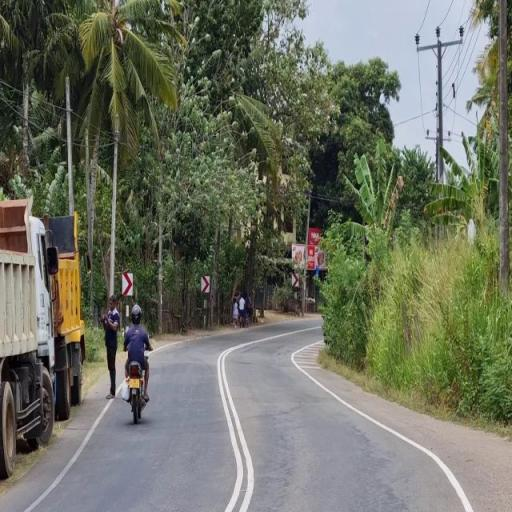double_white_line: (214, 343, 260, 512)
